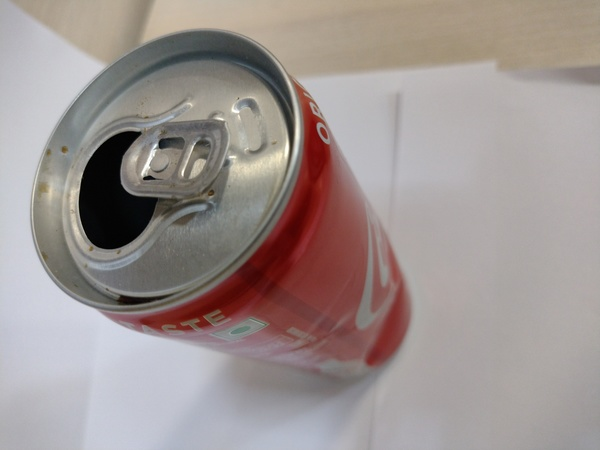can: (24, 24, 417, 388)
